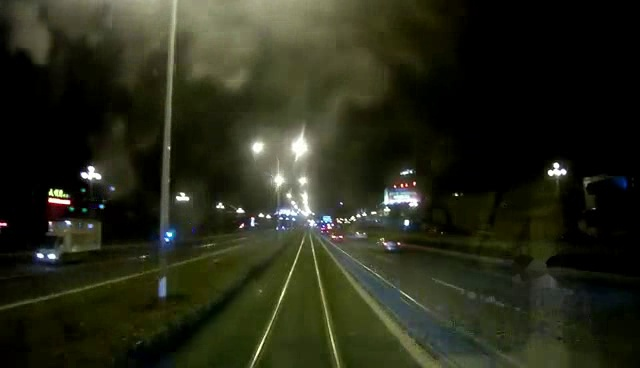car: (35, 219, 105, 264)
